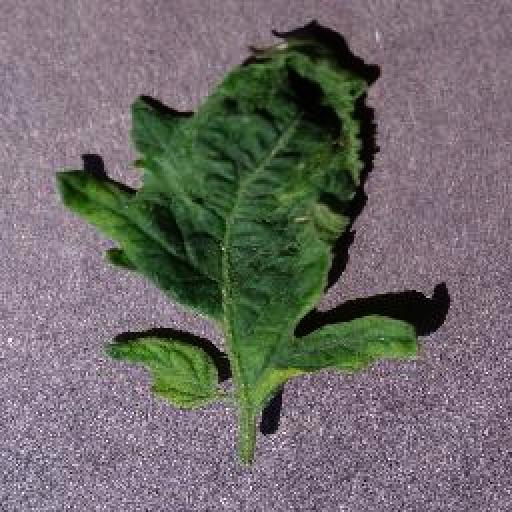disease_tomato: (58, 36, 420, 402)
